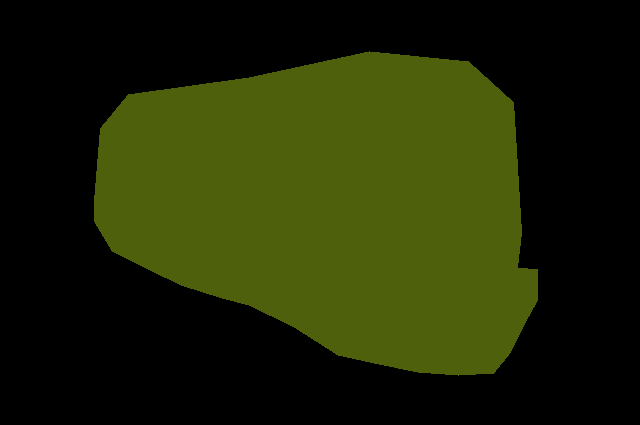Train: (94, 51, 538, 375)
